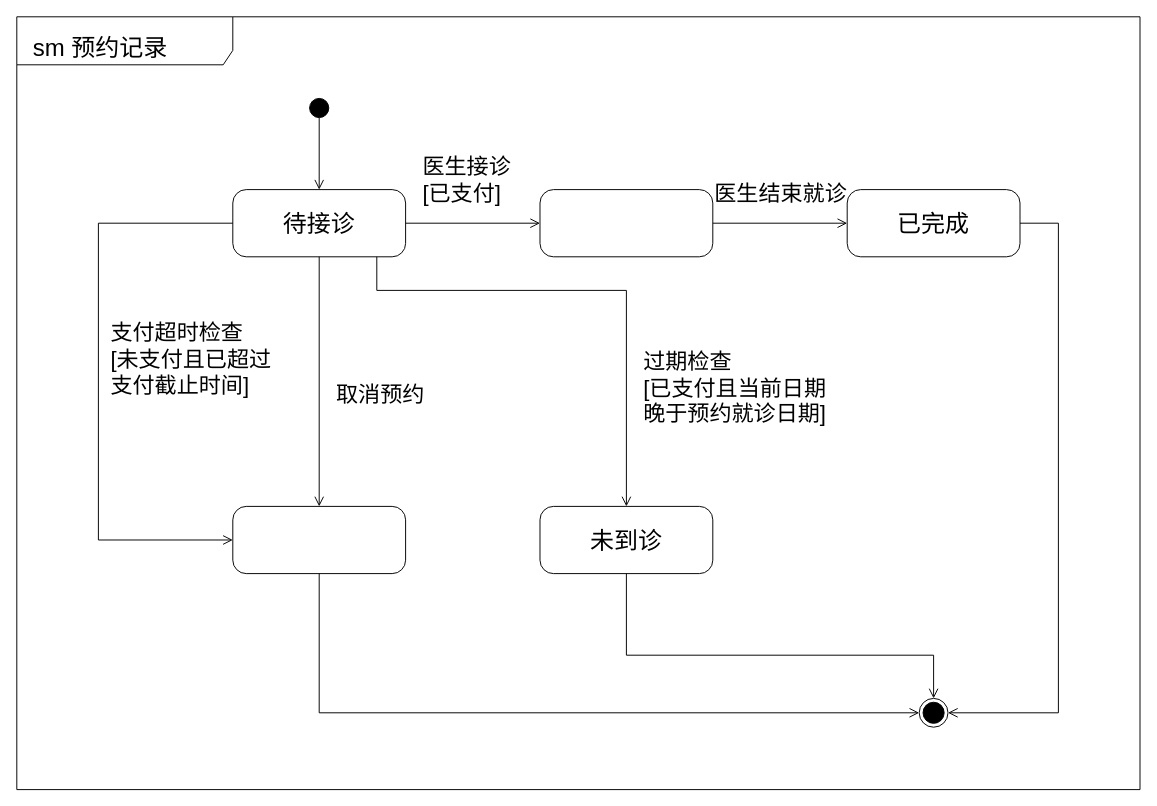
The diagram is 1157 pixels wide and 806 high, and some of its shapes have lost their labels. Here are the shapes that lost their labels. From the top down, the centre of each, then its label:
At point 626,223: "已接诊".
At point 319,539: "已取消".
